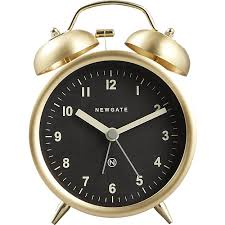alarm_clock: (27, 0, 199, 220), (31, 0, 199, 220), (31, 6, 199, 220)
